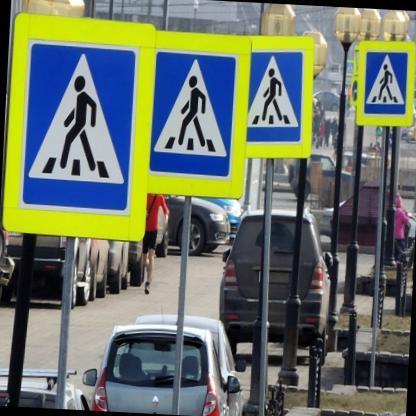obstructed_road_sign: (148, 31, 249, 197), (247, 37, 313, 158)
road_sign: (3, 15, 154, 240), (355, 41, 415, 126)
